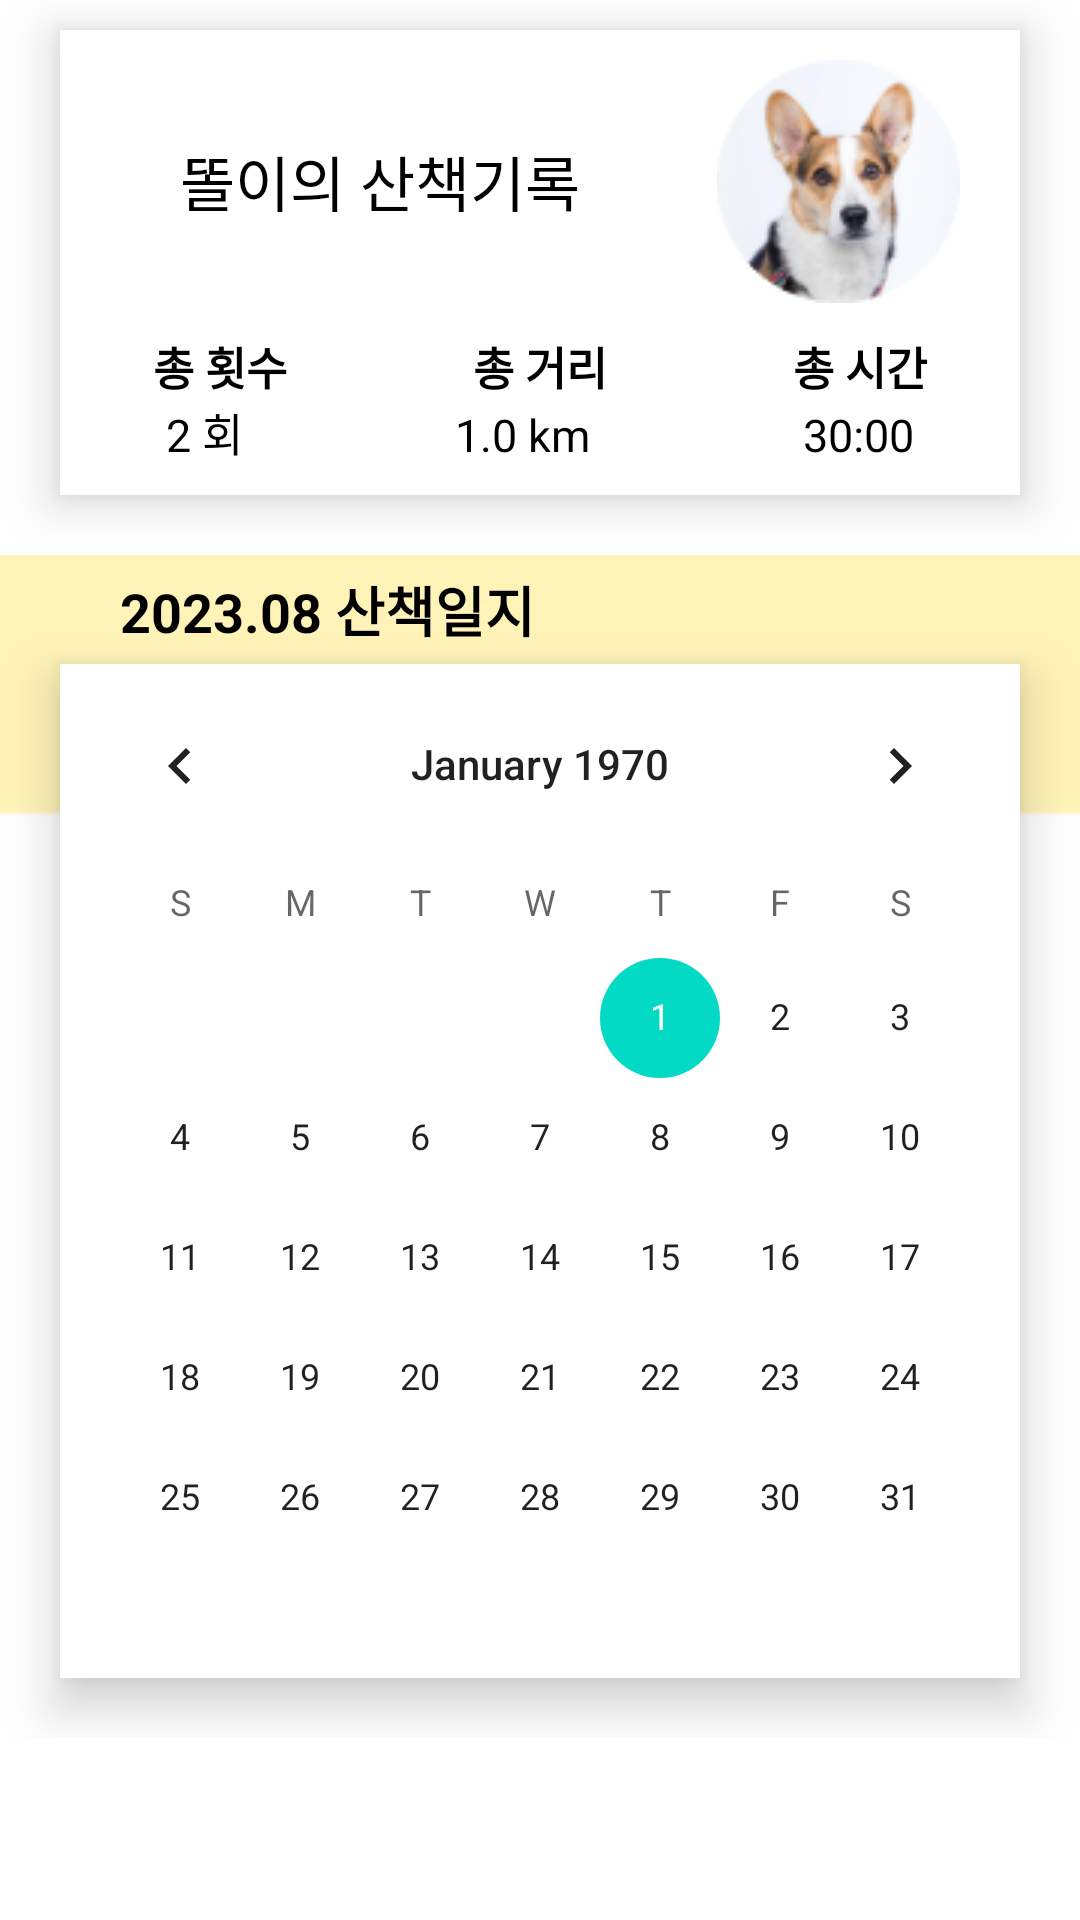

Icon click points for this 1080 x 1920 phone screenshot, format point (x, y):
pet: point (831, 192)
